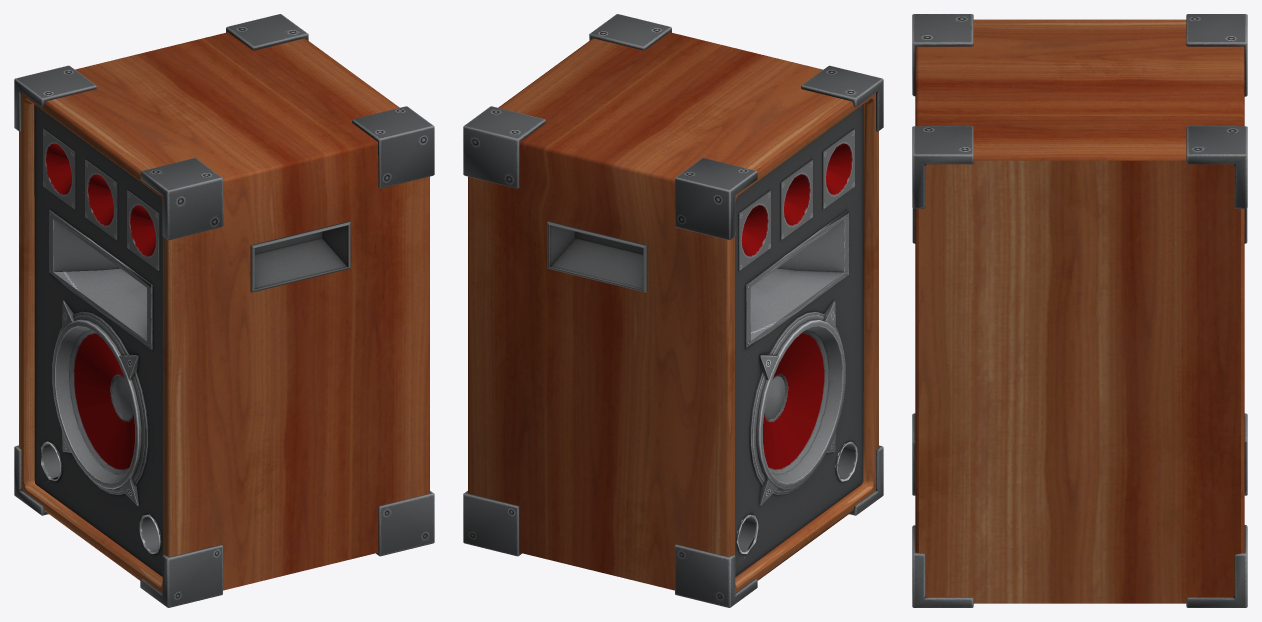
File: speakersmall_reference.fbx
3 renders of one model, left to right at view 1: azimuth 30°, elevation 25°; view 2: azimuth 150°, elevation 25°; view 3: azimuth 270°, elevation 25°, orthographic. The views are drawn at different scales.
Visible parts, largest first — view 1: speakersmall_reference; view 2: speakersmall_reference; view 3: speakersmall_reference.
Boxes of the visible parts, x1=… form: speakersmall_reference: x1=14, y1=14, x2=434, y2=607; speakersmall_reference: x1=463, y1=14, x2=883, y2=607; speakersmall_reference: x1=912, y1=14, x2=1247, y2=607.
Bounding box in the file's own units: 39.69 × 59.2 × 39.69.
